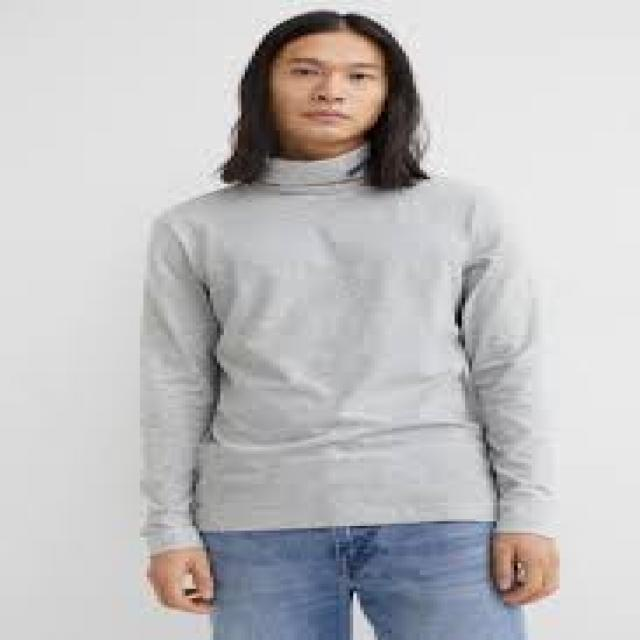plain: (126, 150, 565, 540)
